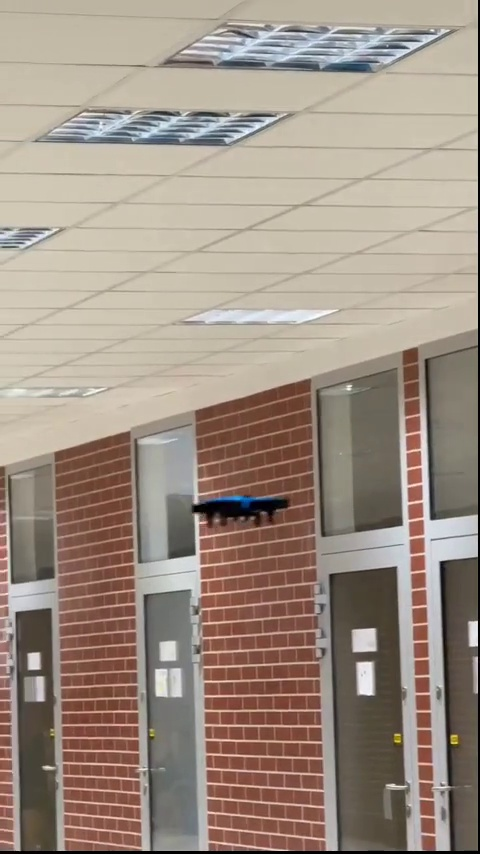drone: (191, 493, 291, 527)
